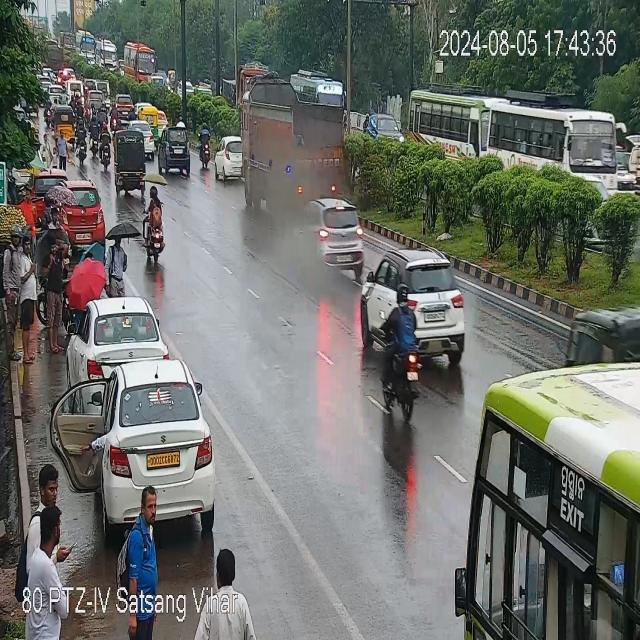2-wheelers: (379, 284, 424, 421), (99, 108, 114, 168), (197, 124, 213, 174), (90, 113, 104, 156), (77, 120, 86, 164), (72, 93, 86, 114), (44, 92, 51, 125), (111, 102, 118, 130)
auto: (114, 125, 149, 192), (54, 106, 75, 144), (142, 104, 158, 144), (631, 138, 640, 184)
bus: (452, 350, 640, 640), (402, 95, 622, 186), (122, 41, 157, 84), (75, 28, 94, 64), (96, 38, 117, 70)
car: (98, 363, 213, 531), (358, 248, 471, 348), (77, 298, 161, 374), (159, 127, 192, 172), (213, 134, 244, 178), (40, 78, 60, 100), (116, 93, 132, 110)
pedestrian: (130, 480, 164, 585), (17, 228, 38, 366), (37, 460, 66, 558), (2, 219, 20, 362), (46, 238, 64, 360), (142, 187, 166, 261), (107, 237, 127, 296), (21, 184, 35, 226), (56, 127, 69, 170), (44, 203, 60, 230), (43, 135, 51, 166), (50, 144, 59, 165)
truck: (244, 74, 349, 208), (198, 547, 258, 637), (304, 200, 364, 268), (56, 33, 75, 49)
